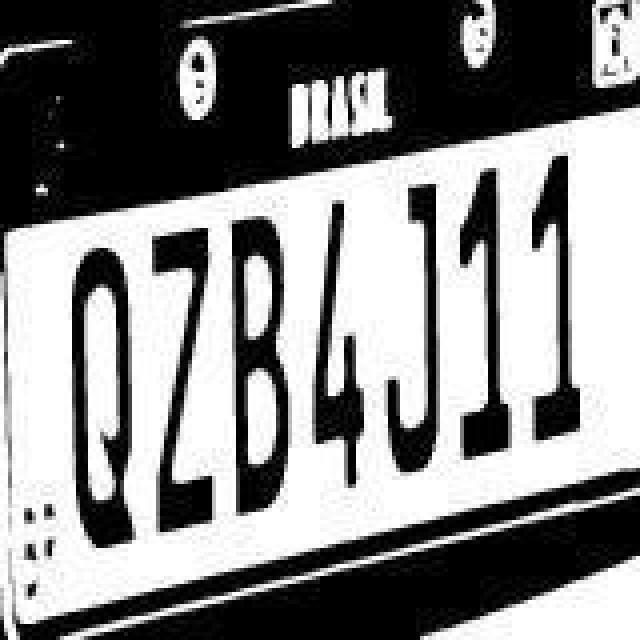1: (454, 164, 522, 460), (522, 152, 590, 440)
4: (300, 198, 372, 490)
B: (222, 218, 290, 526)
J: (384, 178, 448, 478)
Q: (70, 248, 146, 552)
Z: (146, 228, 222, 540)
